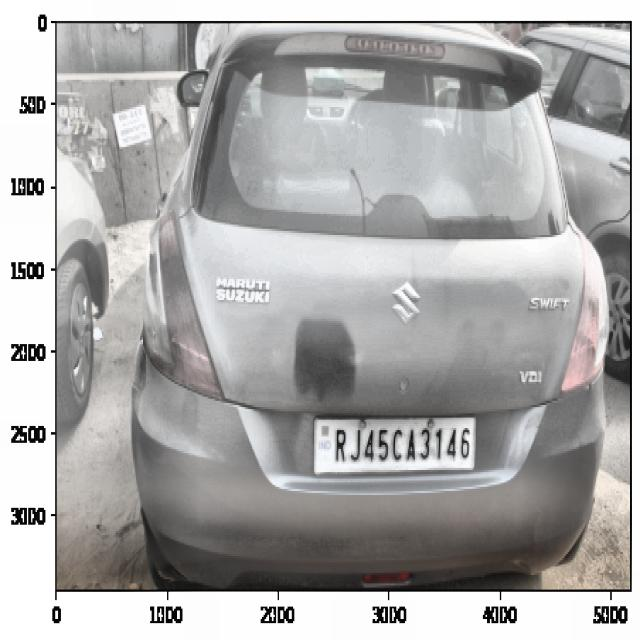license_plate: (323, 419, 476, 471)
